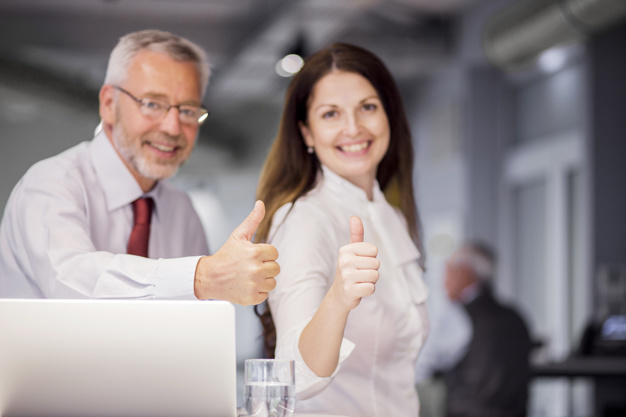thumbsup: (235, 199, 281, 306), (339, 215, 381, 298)
